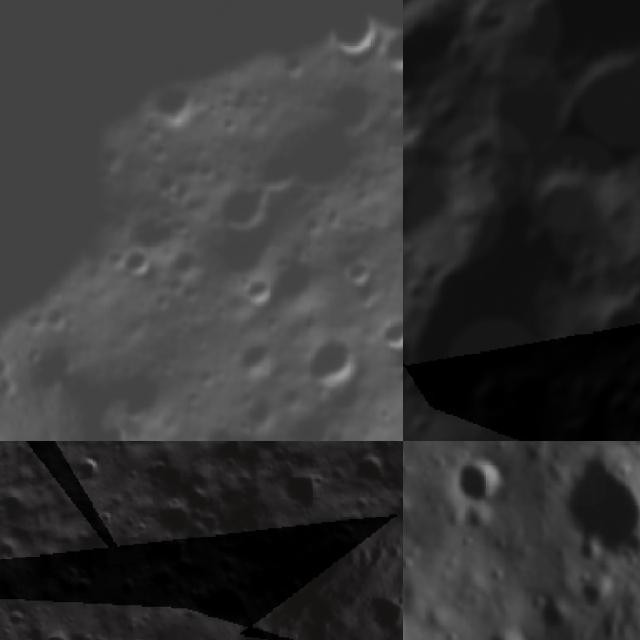crater: (520, 4, 640, 226), (19, 324, 154, 435), (403, 0, 490, 136), (403, 109, 478, 254), (553, 446, 640, 560), (199, 162, 291, 260), (290, 321, 380, 412), (312, 0, 396, 76), (136, 63, 214, 142), (456, 366, 524, 438), (580, 281, 640, 362), (102, 230, 165, 292), (228, 259, 288, 319), (342, 444, 400, 502), (330, 240, 385, 296), (553, 393, 616, 441), (451, 456, 511, 506), (64, 442, 110, 490), (368, 299, 403, 358), (376, 14, 403, 85), (479, 626, 516, 640)
